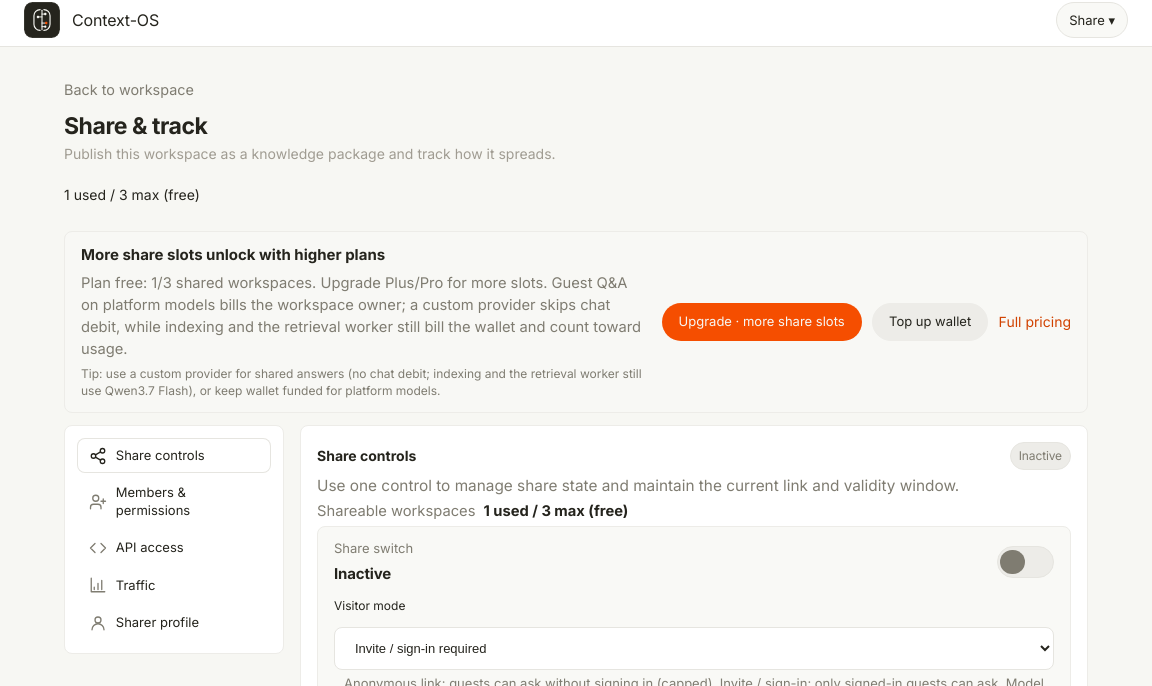
Test case: WorkspaceShareCenterSurface › surfaces a friendly message when share quota is exceeded
The width and height of the screenshot is (1152, 686).
Click the switch.
click(1026, 562)  # box x1=997 y1=546 x2=1054 y2=578
(page scrolled)
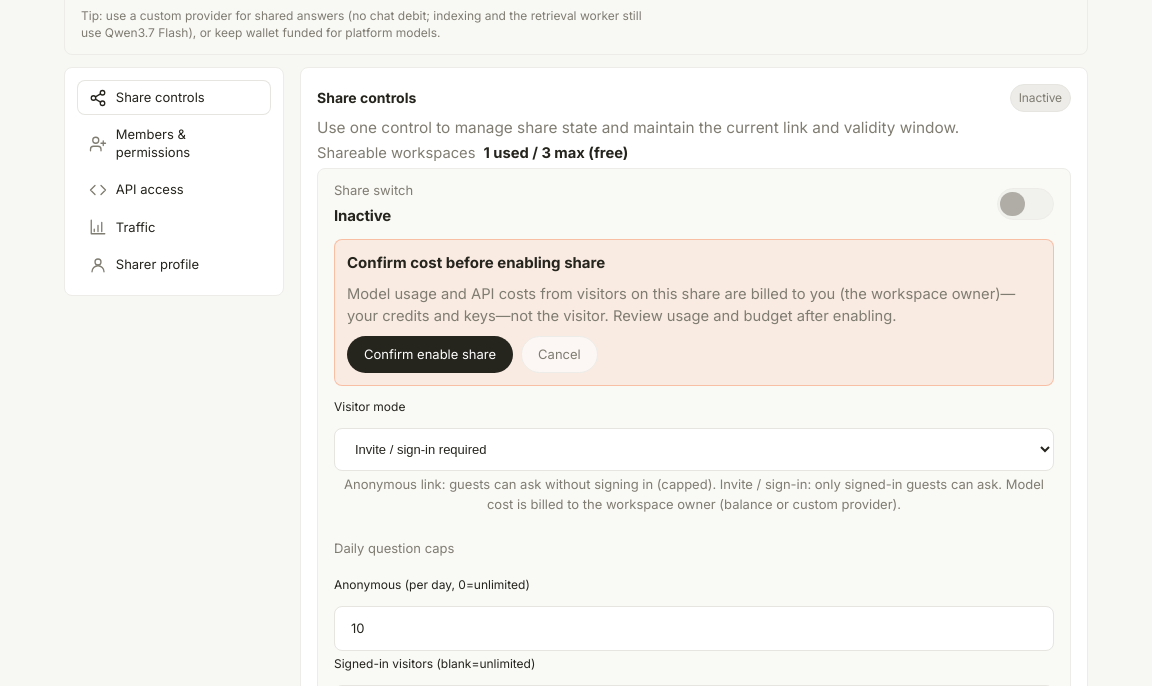
Click the button with test id "share-enable-confirm-action".
click(430, 355)  # box x1=347 y1=336 x2=513 y2=373
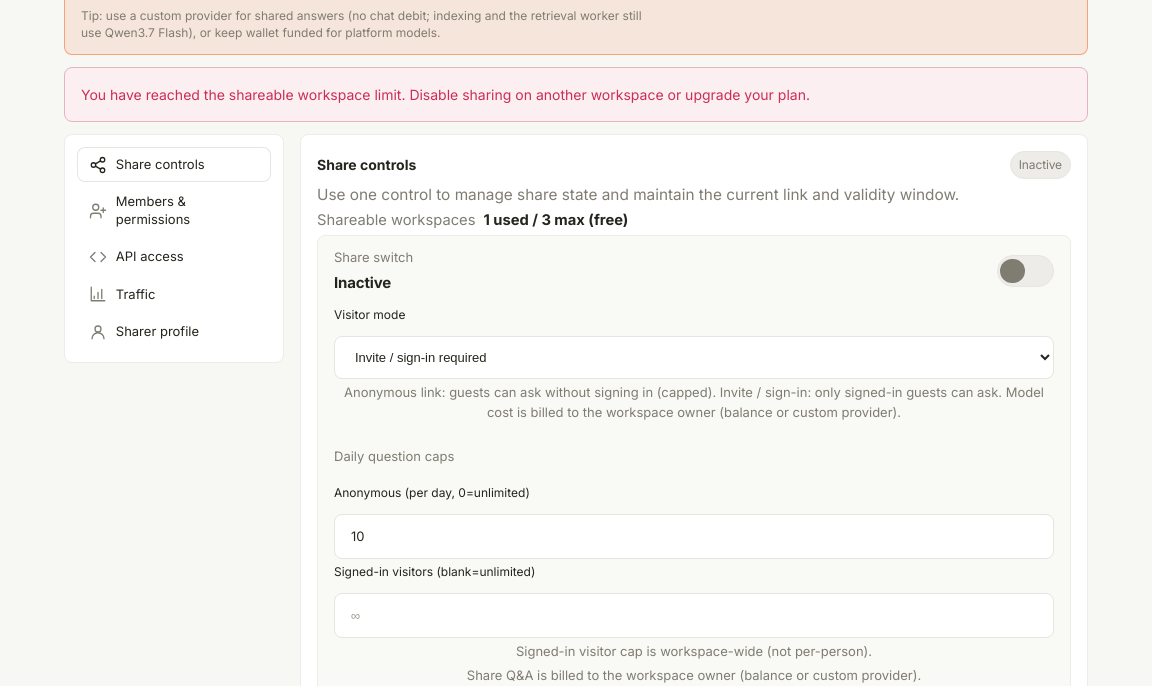
Expected: the text "You have reached the shareable workspace limit. Disable sharing on another workspace or upgrade your plan." is shown, x1=81 y1=86 x2=810 y2=103
